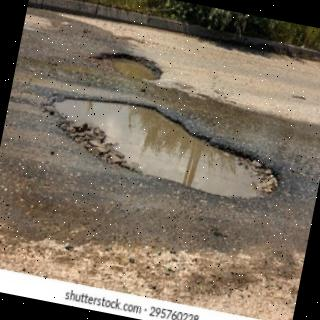pothole: (49, 94, 280, 200), (92, 52, 163, 80)
